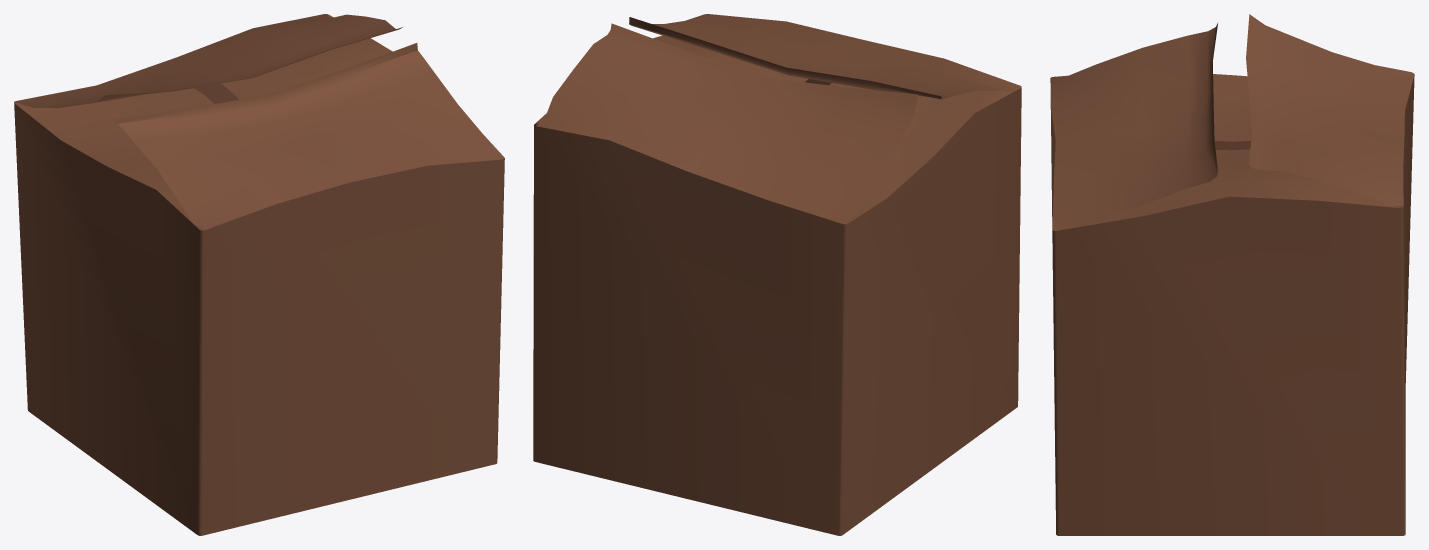
Rendered from CardboardBox_1.fbx.
3 views of the same model, side by side, from view 1: azimuth 30°, elevation 25°; view 2: azimuth 150°, elevation 25°; view 3: azimuth 270°, elevation 25° (orthographic). The views are drawn at different scales.
Parts seen in each view (by area): view 1: Cube; view 2: Cube; view 3: Cube.
Boxes of the visible parts, <box> form: Cube: <box>14,14,504,535</box>; Cube: <box>533,14,1021,535</box>; Cube: <box>1050,14,1414,535</box>.
Size of the model in its own units: 61.06 by 68.88 by 60.57.
